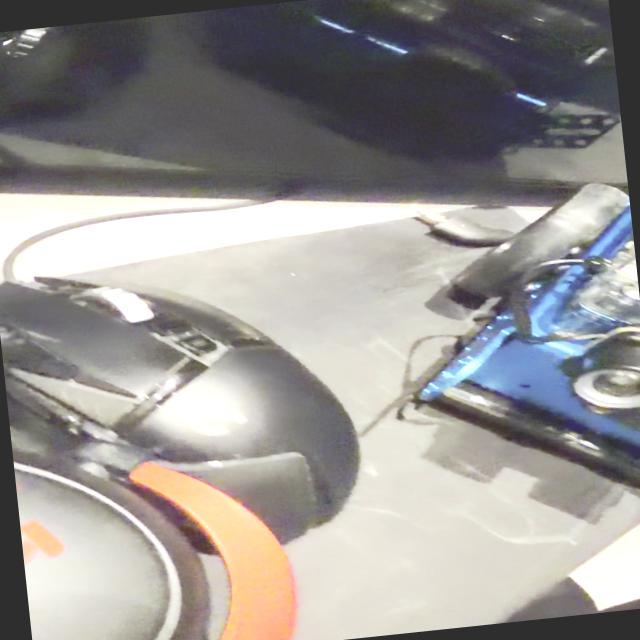mbot-detection: (381, 172, 640, 533)
